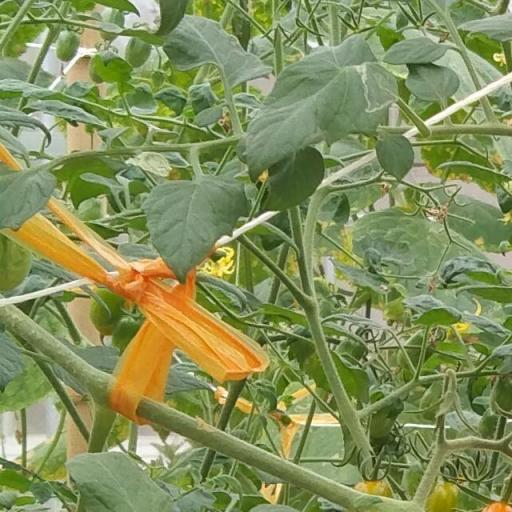Healthy: (64, 450, 179, 512), (406, 62, 460, 102), (381, 36, 447, 65)
Leaf_Miner: (244, 34, 399, 187), (144, 174, 245, 285)
